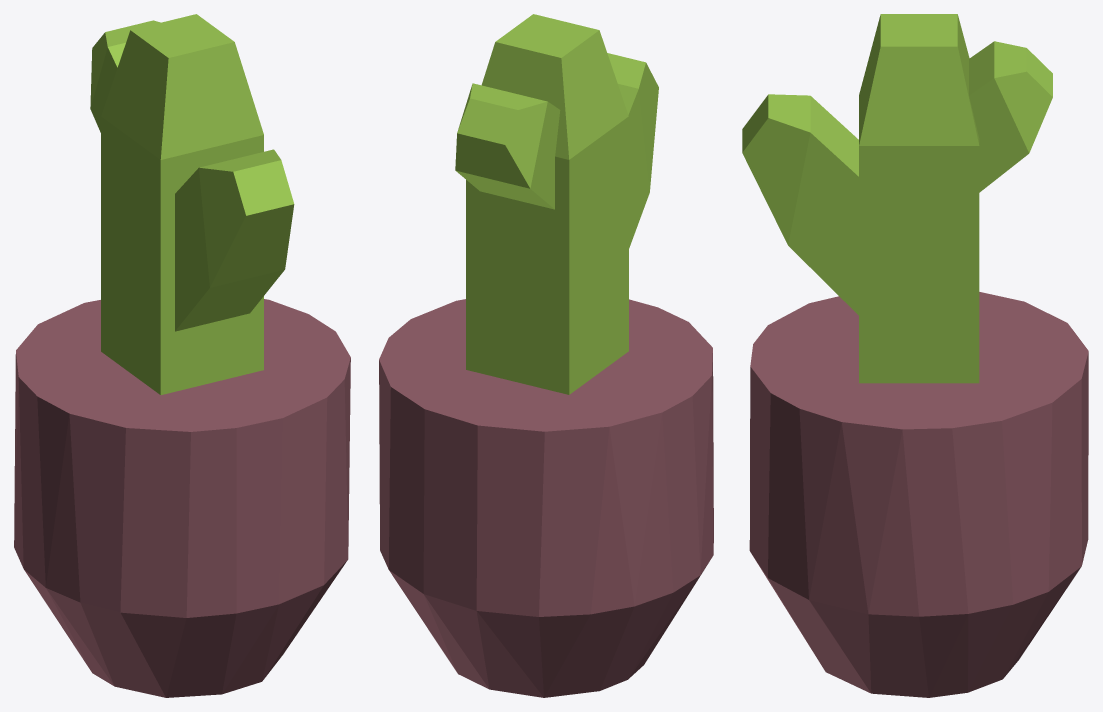
Rendered from cactus.glb.
3 renders of one model, left to right at view 1: azimuth 30°, elevation 25°; view 2: azimuth 150°, elevation 25°; view 3: azimuth 270°, elevation 25°, orthographic.
Parts seen in each view (by area): view 1: Cylinder, Cube, Cube.001, Cube.002; view 2: Cylinder, Cube, Cube.002, Cube.001; view 3: Cylinder, Cube, Cube.001, Cube.002.
Part boxes in pixels (bbox=[...]): Cylinder: bbox=[14, 299, 350, 697]; Cube: bbox=[101, 14, 263, 394]; Cube.001: bbox=[175, 149, 294, 331]; Cube.002: bbox=[90, 20, 160, 132]; Cylinder: bbox=[379, 299, 713, 697]; Cube: bbox=[466, 14, 628, 394]; Cube.002: bbox=[455, 83, 560, 209]; Cube.001: bbox=[607, 53, 658, 248]; Cylinder: bbox=[749, 292, 1088, 697]; Cube: bbox=[859, 14, 979, 383]; Cube.001: bbox=[742, 94, 858, 315]; Cube.002: bbox=[969, 41, 1052, 192].
Bounding box in the file's own units: 3.4 × 6.92 × 3.48.
